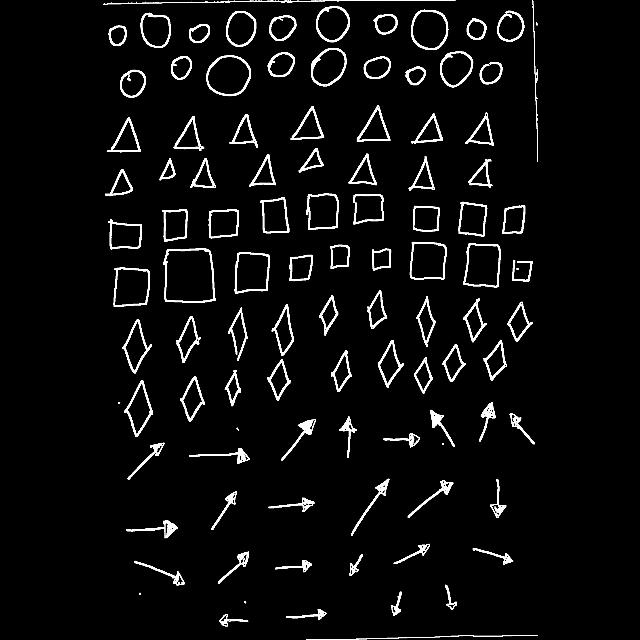arrow: (399, 476, 458, 530), (182, 440, 260, 478), (348, 474, 394, 538), (274, 410, 326, 464), (122, 556, 190, 592), (124, 438, 166, 496), (106, 510, 188, 538), (205, 546, 253, 592), (262, 490, 326, 524), (330, 408, 366, 468), (205, 484, 243, 540), (268, 602, 328, 632), (382, 421, 422, 463), (262, 556, 322, 584), (466, 541, 520, 571), (424, 408, 460, 452), (390, 540, 430, 576), (486, 464, 508, 528), (473, 400, 499, 452), (508, 410, 536, 454), (434, 582, 466, 620), (382, 586, 411, 624), (341, 544, 371, 578), (212, 609, 256, 631)
circle: (405, 2, 453, 52), (203, 52, 253, 100), (313, 2, 362, 44), (437, 46, 479, 94), (306, 49, 354, 90), (138, 8, 182, 50), (220, 7, 258, 47), (116, 61, 152, 103), (264, 7, 298, 46), (494, 6, 526, 44), (260, 51, 300, 80), (166, 54, 192, 98), (473, 60, 509, 86), (357, 58, 391, 84), (188, 17, 216, 47), (404, 64, 436, 90), (102, 22, 130, 50), (464, 11, 490, 41), (372, 9, 398, 36)
diamond: (403, 292, 443, 361), (264, 297, 308, 359), (115, 318, 155, 382), (223, 296, 257, 366), (174, 308, 208, 370), (122, 378, 156, 438), (359, 284, 397, 336), (377, 336, 407, 394), (482, 338, 514, 392), (323, 344, 357, 392), (459, 292, 487, 350), (312, 292, 342, 342), (440, 342, 470, 388), (178, 375, 204, 427), (506, 295, 532, 343), (266, 360, 294, 402), (220, 368, 243, 418), (412, 350, 433, 402)
square: (154, 244, 222, 306), (340, 186, 396, 234), (196, 197, 244, 245), (459, 239, 503, 287), (254, 188, 292, 242), (303, 187, 341, 239), (452, 194, 496, 238), (406, 240, 450, 282), (231, 247, 271, 293), (102, 211, 144, 253), (109, 261, 147, 305), (402, 202, 450, 236), (156, 203, 194, 244), (496, 193, 530, 237), (316, 238, 356, 272), (278, 252, 312, 288), (508, 249, 536, 287), (367, 246, 395, 274)
triangle: (354, 100, 398, 152), (101, 109, 142, 153), (184, 153, 224, 194), (463, 108, 501, 148), (410, 104, 446, 146), (291, 101, 325, 145), (106, 165, 144, 203), (169, 108, 203, 150), (226, 109, 260, 149), (408, 154, 440, 196), (342, 150, 376, 188), (461, 155, 497, 189), (248, 153, 280, 185), (296, 142, 326, 176), (158, 158, 178, 182)
